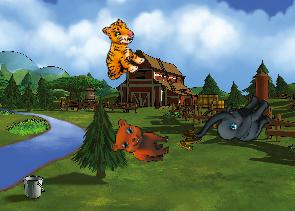bear: (111, 118, 171, 162)
elephant: (193, 77, 278, 166)
tiger: (85, 16, 152, 85)
